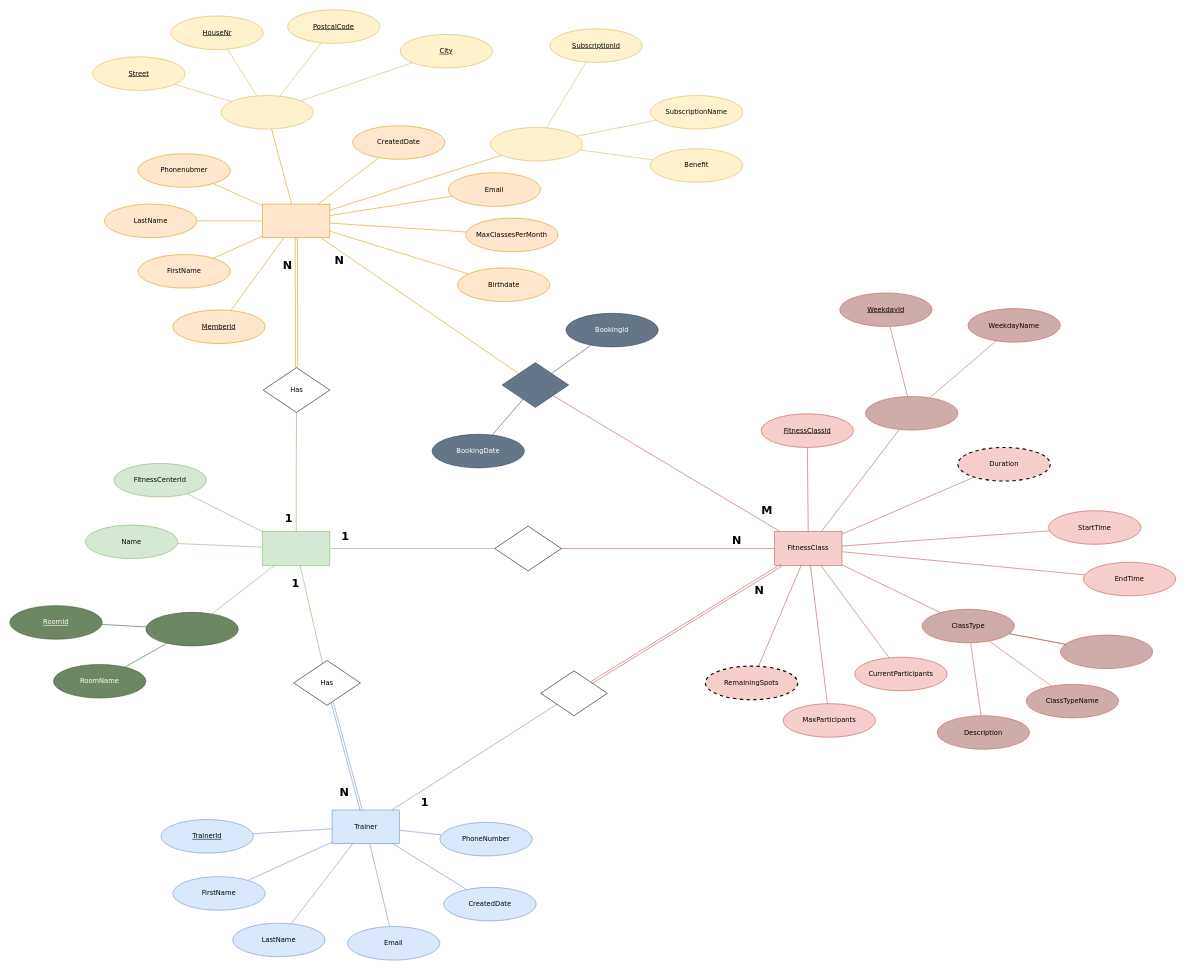
Some shapes in this 1186 by 970 pixel diagram are drawn without their labels. Each missing label, with the centre of its shape:
"Address" goes at [266,112].
"Can book" goes at [535,384].
"Can have" goes at [527,548].
"ClassTypeId" goes at [1106,651].
"Leads" goes at [573,693].
"Member" goes at [296,221].
"Room" goes at [191,629].
"StemFitnessCenter" goes at [296,548].
"SubscriptionType" goes at [536,144].
"Weekday" goes at [911,413].
